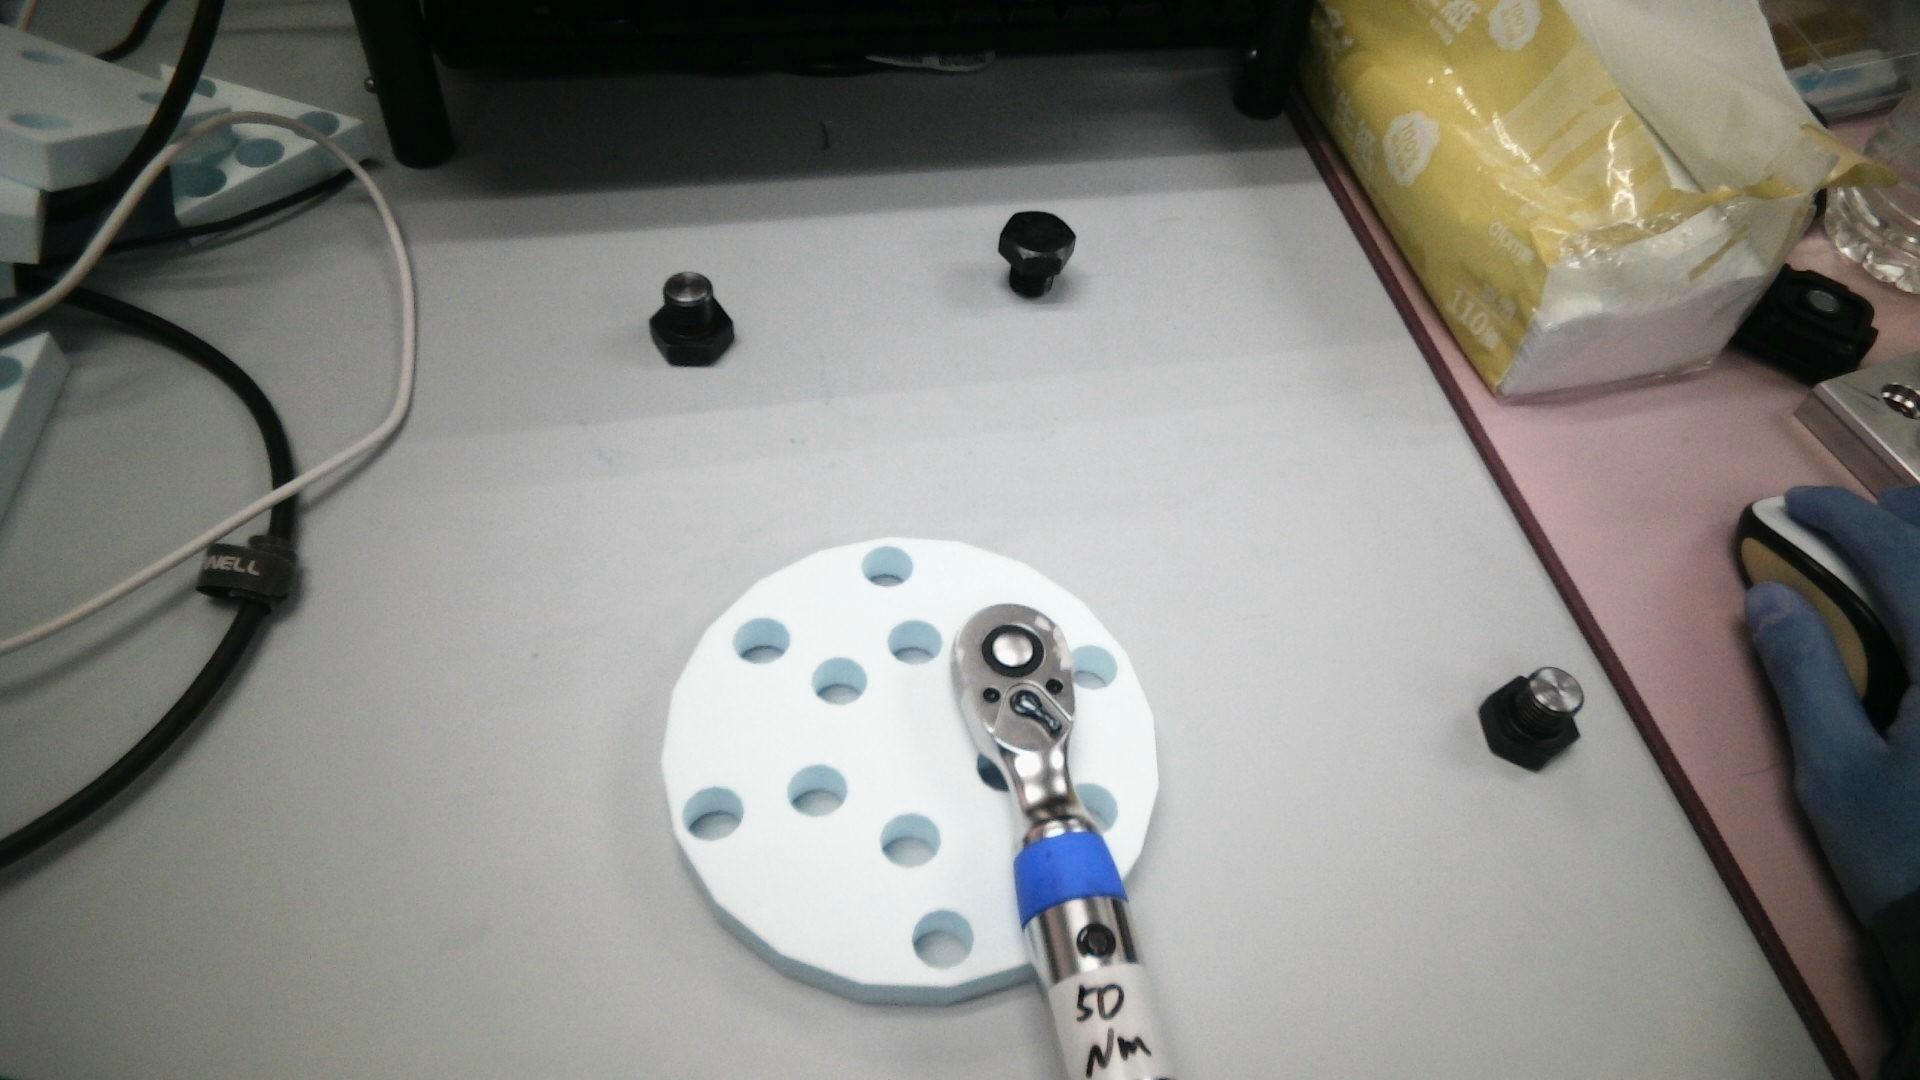hole: (913, 909, 975, 971), (878, 814, 942, 869), (680, 787, 744, 841), (787, 764, 847, 815), (810, 657, 866, 705), (732, 618, 791, 665), (887, 620, 944, 665), (1072, 783, 1118, 835), (1068, 645, 1118, 691), (864, 546, 913, 585), (976, 749, 1013, 794)
obj: (661, 537, 1158, 1007)
wrench: (982, 625, 1044, 679)
